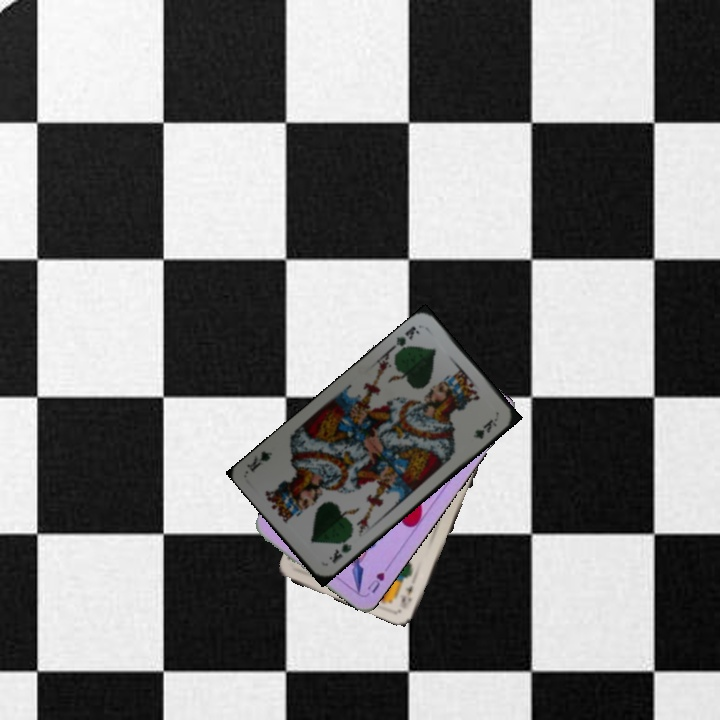EK: (396, 582, 416, 611)
GK: (388, 322, 422, 356), (325, 533, 354, 566)
HU: (363, 568, 387, 596)
